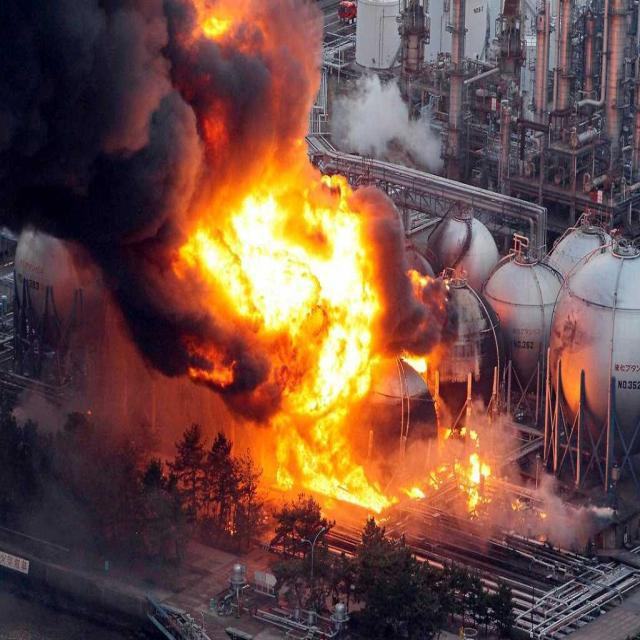Fire: (204, 208, 375, 374), (279, 381, 390, 506)
Smoke: (15, 14, 203, 183)
